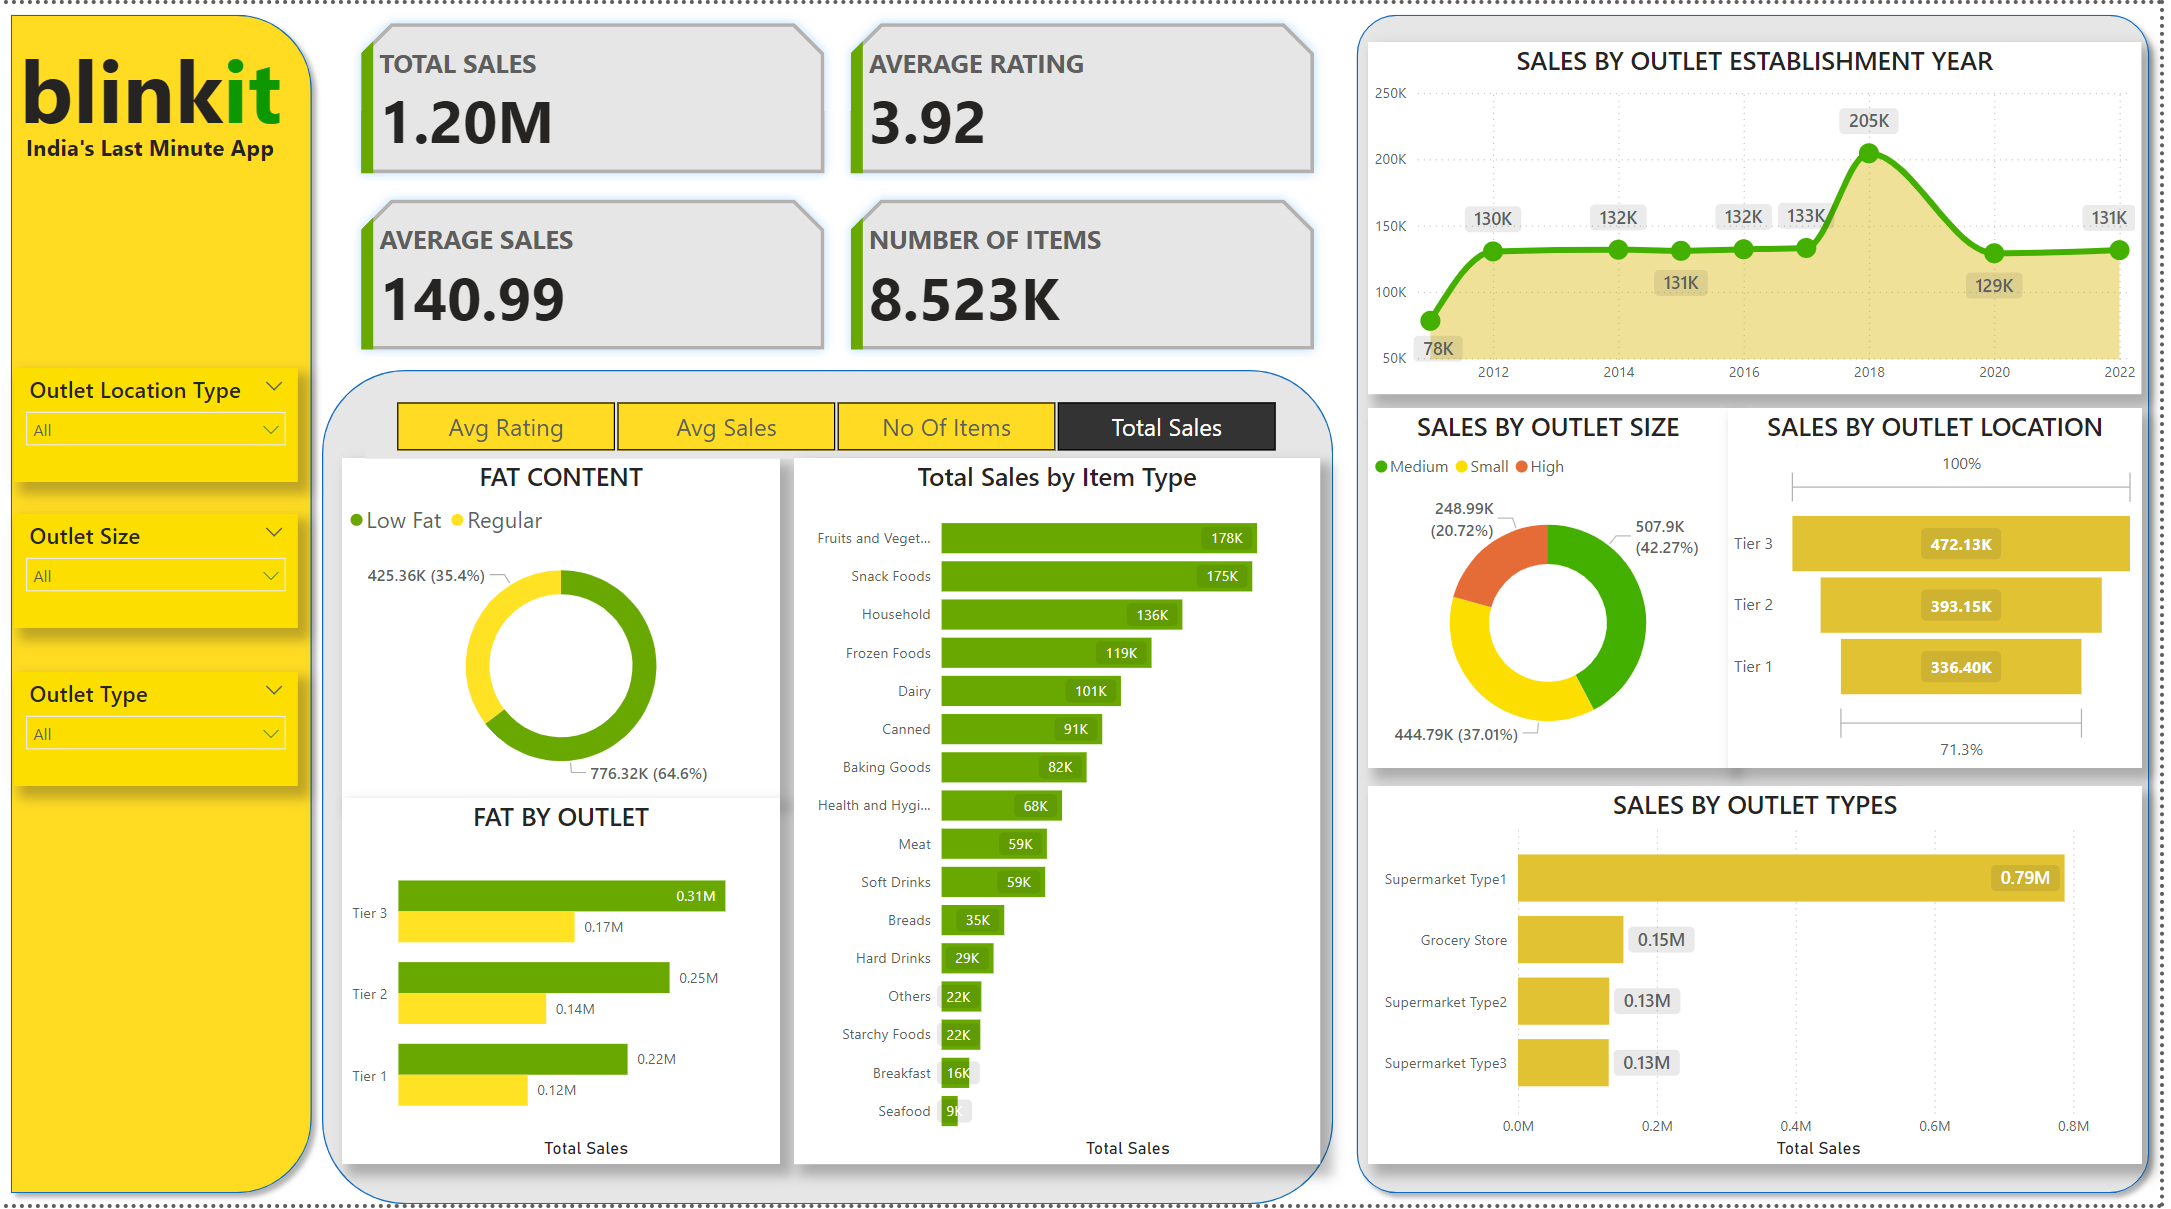

The page's visual inventory and layout, read from the dashboard file:
{"tool":"powerbi","page":{"name":"Page 1","canvas":[1800,1000],"ordinal":0},"visuals":[{"type":"shape","box":[0,0,268.9,1000],"z":0},{"type":"textbox","box":[11.7,16.7,236.7,111.7],"z":1000},{"type":"cardVisual","fields":{"Data":["BlinkIT Grocery Data.Total Sales","BlinkIT Grocery Data.Avg Rating","BlinkIT Grocery Data.Avg Sales","BlinkIT Grocery Data.No Of Items"]},"box":[285.2,0,826.2,304.9],"z":2000},{"type":"shape","box":[268.9,304.9,842.6,695.1],"z":3000},{"type":"donutChart","title":"FAT CONTENT","fields":{"Y":["BlinkIT Grocery Data.Total Sales"],"Category":["BlinkIT Grocery Data.Item Fat Content"]},"box":[285,378.3,365,283.3],"z":4000},{"type":"slicer","fields":{"Values":["Metric.Metric"]},"box":[304.9,324.6,782,54.1],"z":5000},{"type":"clusteredBarChart","title":"FAT BY OUTLET","fields":{"Y":["BlinkIT Grocery Data.Total Sales"],"Series":["BlinkIT Grocery Data.Item Fat Content"],"Category":["BlinkIT Grocery Data.Outlet Location Type"]},"box":[285,661.7,365,305],"z":6000},{"type":"barChart","fields":{"Y":["BlinkIT Grocery Data.Total Sales"],"Category":["BlinkIT Grocery Data.Item Type"]},"box":[661.7,378.3,438.3,588.3],"z":7000},{"type":"shape","box":[1121.7,0,678.3,1000],"z":8000},{"type":"lineChart","title":"SALES BY OUTLET ESTABLISHMENT YEAR","fields":{"Category":["BlinkIT Grocery Data.Outlet Establishment Year"],"Y":["BlinkIT Grocery Data.Total Sales"]},"box":[1139.3,31.1,644.3,293.4],"z":9000},{"type":"donutChart","title":"SALES BY OUTLET SIZE","fields":{"Y":["BlinkIT Grocery Data.Total Sales"],"Category":["BlinkIT Grocery Data.Outlet Size"]},"box":[1140,336.7,300,300],"z":10000},{"type":"funnel","title":"SALES BY OUTLET LOCATION","fields":{"Y":["Sum(BlinkIT Grocery Data.Sales)"],"Category":["BlinkIT Grocery Data.Outlet Location Type"]},"box":[1440,336.7,345,300],"z":11000},{"type":"barChart","title":"SALES BY OUTLET TYPES","fields":{"Category":["BlinkIT Grocery Data.Outlet Type"],"Y":["BlinkIT Grocery Data.Total Sales"]},"box":[1140,651.7,645,315],"z":12000},{"type":"slicer","fields":{"Values":["BlinkIT Grocery Data.Outlet Location Type"]},"box":[11.7,303.3,236.7,95],"z":13000},{"type":"slicer","fields":{"Values":["BlinkIT Grocery Data.Outlet Size"]},"box":[11.7,425,236.7,95],"z":14000},{"type":"slicer","fields":{"Values":["BlinkIT Grocery Data.Outlet Type"]},"box":[11.7,556.7,236.7,95],"z":15000},{"type":"textbox","box":[16.7,101.7,236.7,51.7],"z":15001}]}

Visuals, with their boxes in screenshot pixels (x1, y1, x2, y2), scaled from the page's 1800x1000 canvas onto the 2171x1209 screenshot:
shape: pyautogui.locateOnScreen(0, 0, 324, 1208)
textbox: pyautogui.locateOnScreen(14, 20, 300, 155)
cardVisual - BlinkIT Grocery Data.Total Sales x BlinkIT Grocery Data.Avg Rating: pyautogui.locateOnScreen(344, 0, 1340, 369)
shape: pyautogui.locateOnScreen(324, 369, 1341, 1208)
"FAT CONTENT" donutChart: pyautogui.locateOnScreen(344, 457, 784, 800)
slicer - Metric.Metric: pyautogui.locateOnScreen(368, 392, 1311, 458)
"FAT BY OUTLET" clusteredBarChart: pyautogui.locateOnScreen(344, 800, 784, 1169)
barChart - BlinkIT Grocery Data.Total Sales x BlinkIT Grocery Data.Item Type: pyautogui.locateOnScreen(798, 457, 1327, 1169)
shape: pyautogui.locateOnScreen(1353, 0, 2170, 1208)
"SALES BY OUTLET ESTABLISHMENT YEAR" lineChart: pyautogui.locateOnScreen(1374, 38, 2151, 392)
"SALES BY OUTLET SIZE" donutChart: pyautogui.locateOnScreen(1375, 407, 1737, 770)
"SALES BY OUTLET LOCATION" funnel: pyautogui.locateOnScreen(1737, 407, 2153, 770)
"SALES BY OUTLET TYPES" barChart: pyautogui.locateOnScreen(1375, 788, 2153, 1169)
slicer - BlinkIT Grocery Data.Outlet Location Type: pyautogui.locateOnScreen(14, 367, 300, 482)
slicer - BlinkIT Grocery Data.Outlet Size: pyautogui.locateOnScreen(14, 514, 300, 629)
slicer - BlinkIT Grocery Data.Outlet Type: pyautogui.locateOnScreen(14, 673, 300, 788)
textbox: pyautogui.locateOnScreen(20, 123, 306, 185)
